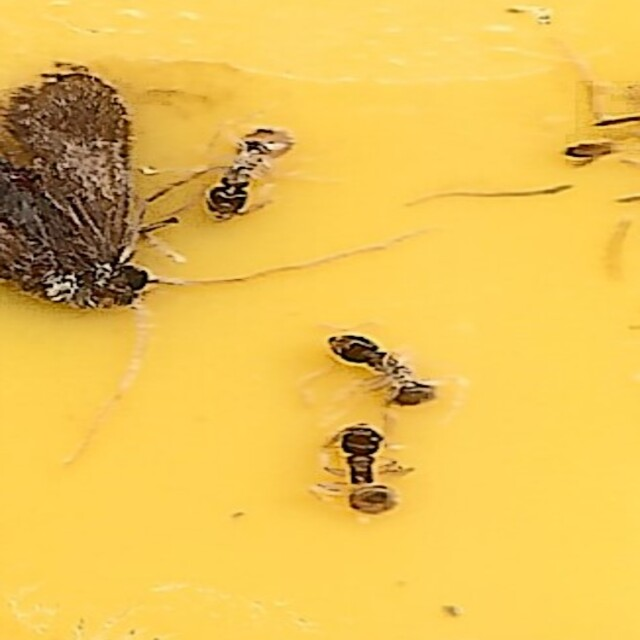Isoptera: (322, 327, 444, 413), (196, 121, 293, 221), (314, 419, 406, 519)
